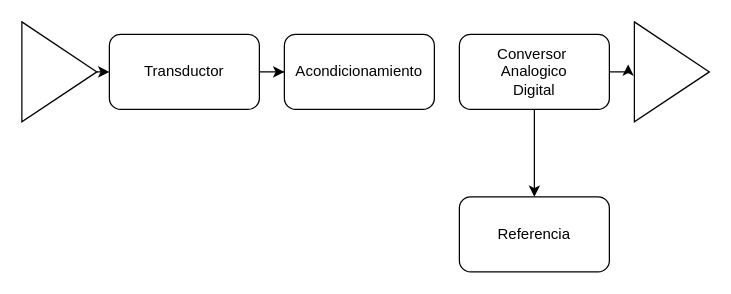
Some shapes in this 731 by 294 pixel diagram are drawn without their labels. Each missing label, with the centre of its shape:
Salida Digital: point (671, 71)
Señal Fisica: point (59, 71)
